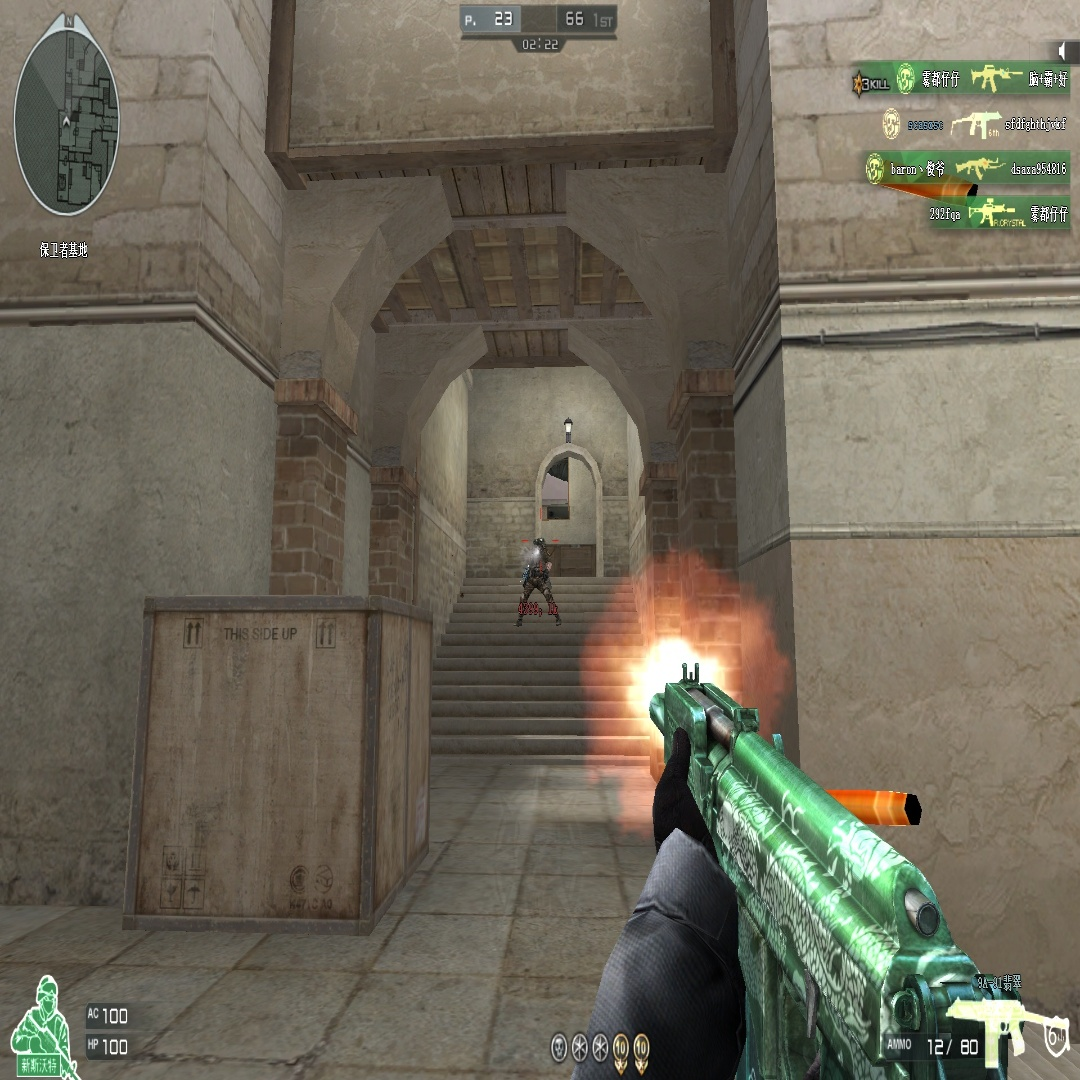head: (534, 535, 544, 551)
p: (517, 535, 559, 623)
